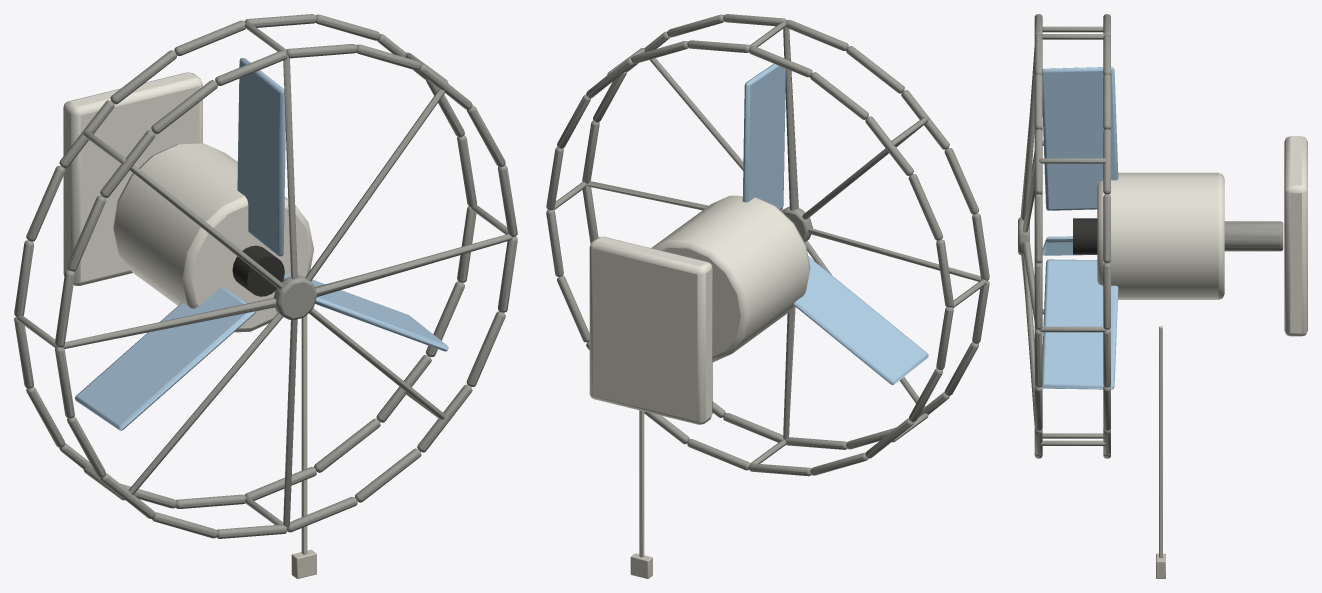
Rendered from QuatTreoTuong_Fix.glb.
The picture shows the model from 3 angles, left to right: view 1: azimuth 30°, elevation 25°; view 2: azimuth 150°, elevation 25°; view 3: azimuth 270°, elevation 25°; orthographic projection. The views are drawn at different scales.
Parts seen in each view (by area): view 1: QuatTreoTuong_Fix; view 2: QuatTreoTuong_Fix; view 3: QuatTreoTuong_Fix.
Boxes of the visible parts, box(x1,y1,x2,y2) form: QuatTreoTuong_Fix: box(14, 14, 517, 578); QuatTreoTuong_Fix: box(546, 14, 989, 578); QuatTreoTuong_Fix: box(1018, 14, 1307, 578).
Size of the model in its own units: 0.457 by 0.5685 by 0.296.
